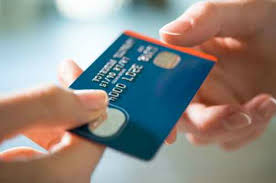tarjeta: (62, 30, 218, 160)
